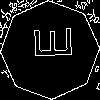E: (25, 25, 72, 60)
